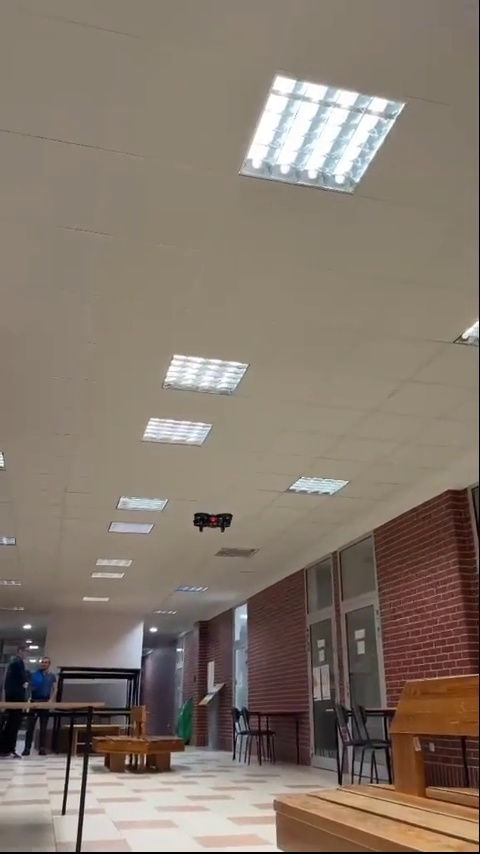drone: (187, 512, 238, 535)
no vest: (8, 647, 30, 767), (35, 653, 56, 710)
